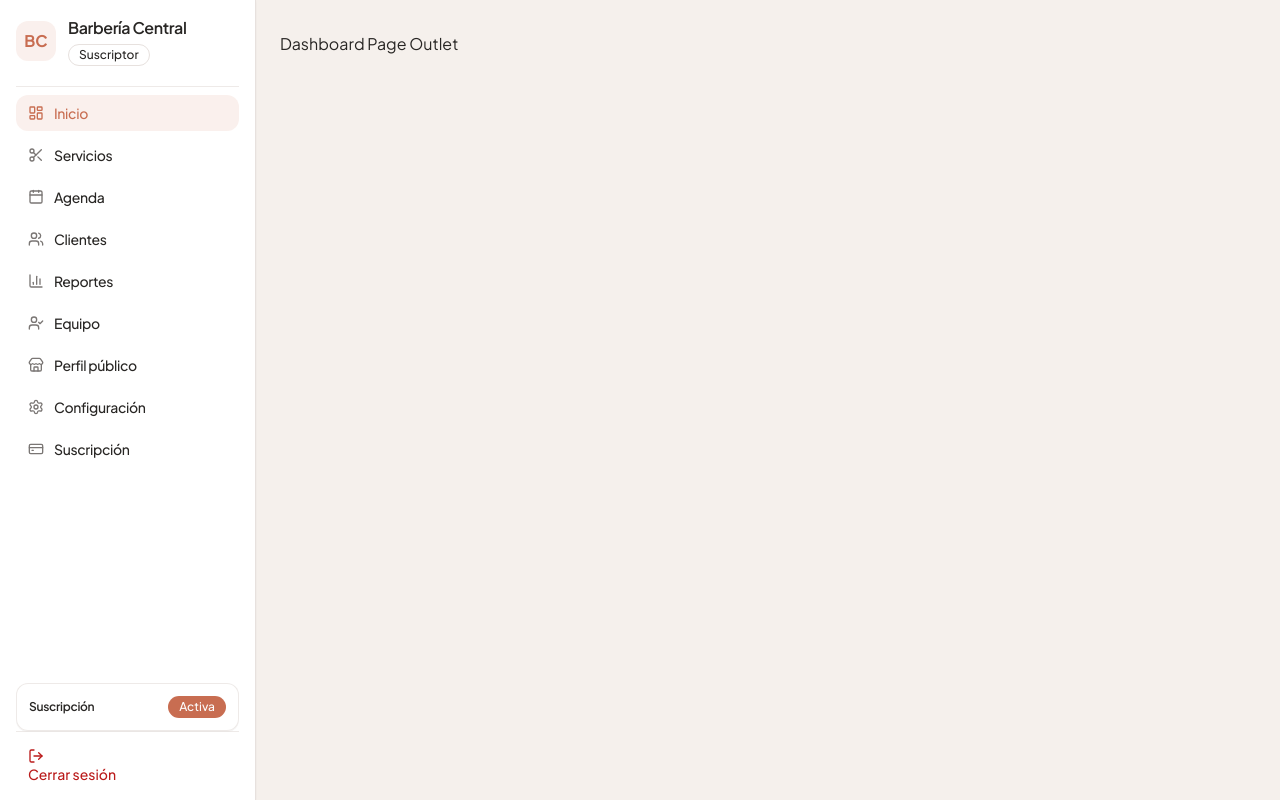
Test: BusinessSidebar (KAN-29, KAN-39, KAN-42) › KAN-29: AC-KAN-29-04 displays construction placeholder dialog when clicking incomplete tools
The width and height of the screenshot is (1280, 800).
Click the button "Agenda".
click(128, 197)  # box [16,179,239,215]
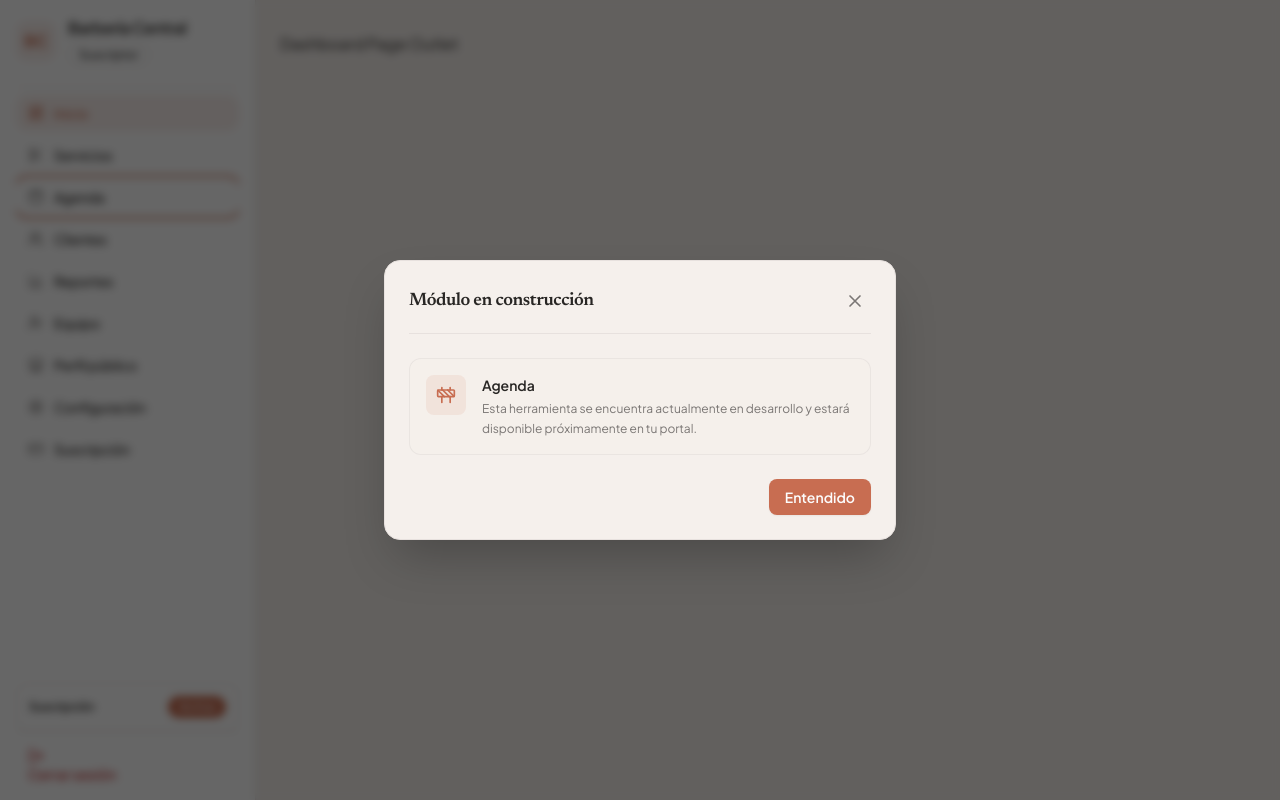
Expected: the heading "Módulo en construcción" is shown, [409,287,594,315]
Click the button "Entendido".
click(820, 497)  # box [769,479,871,515]
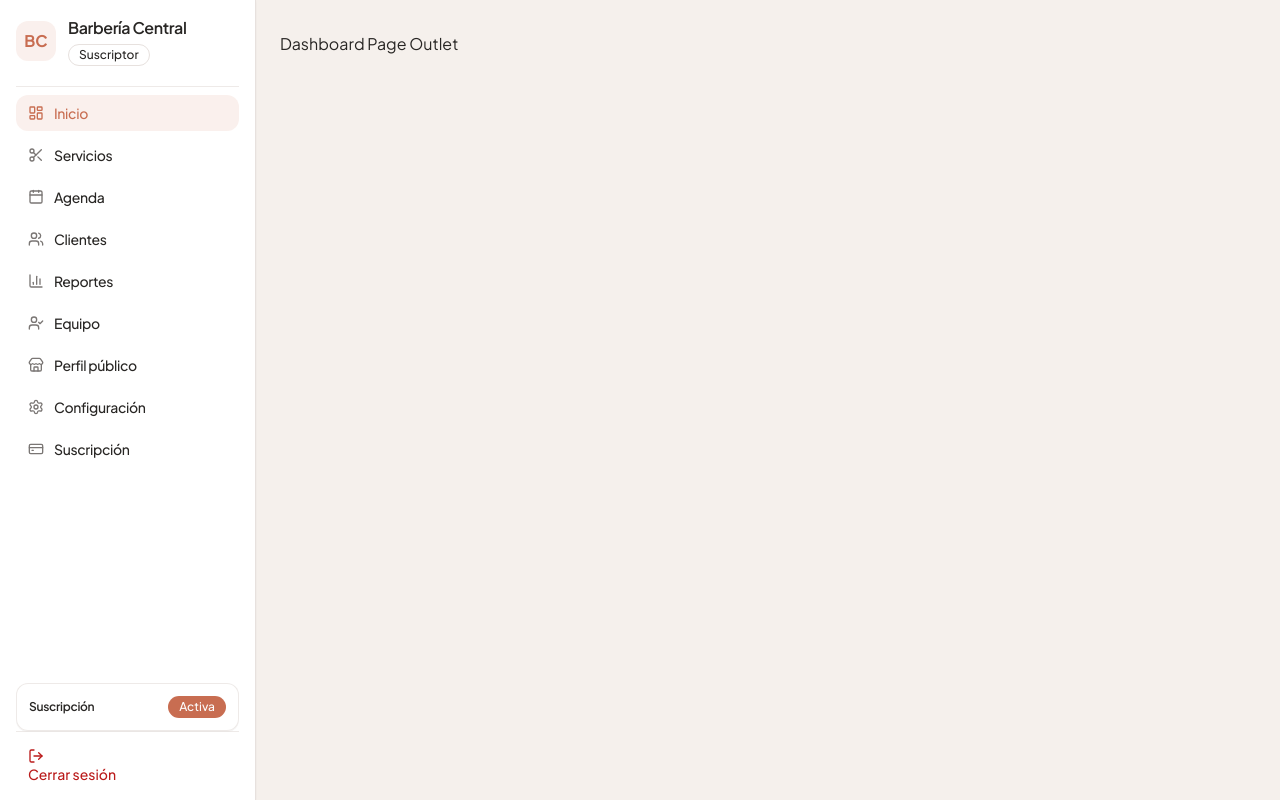
Expected: the heading "Módulo en construcción" is gone
